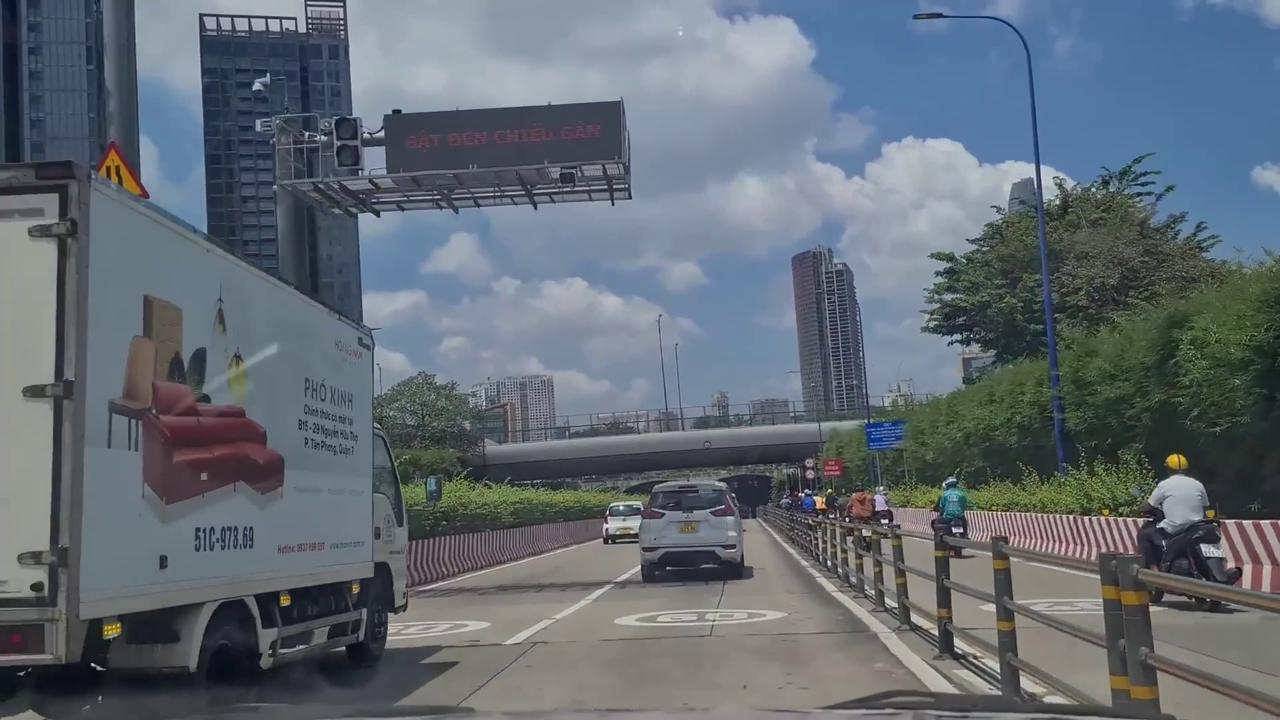Đuờng hẹp: (78, 139, 154, 209)
